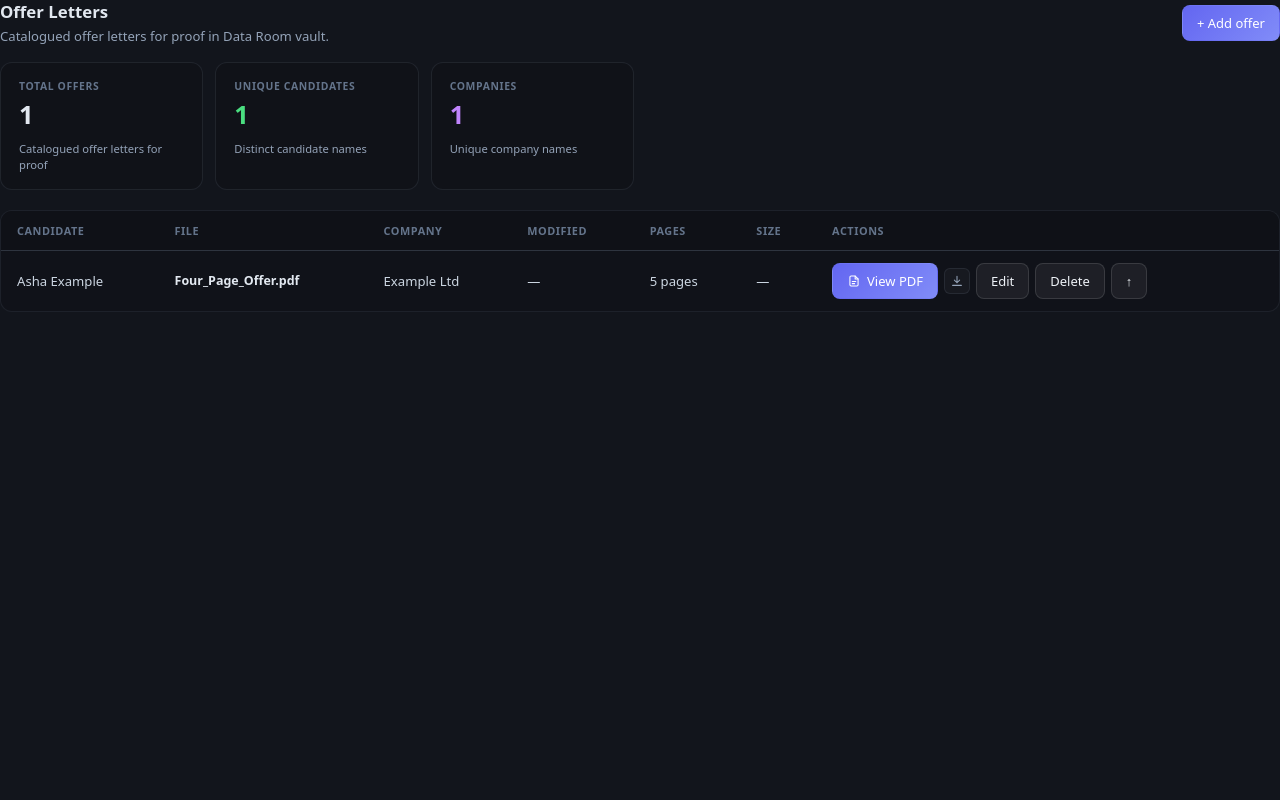
it: the page count › warns when it can show fewer pages than the stored file holds
Click the button with aria-label "View PDF for Asha Example" at x=885, y=280, box [832, 262, 938, 298]
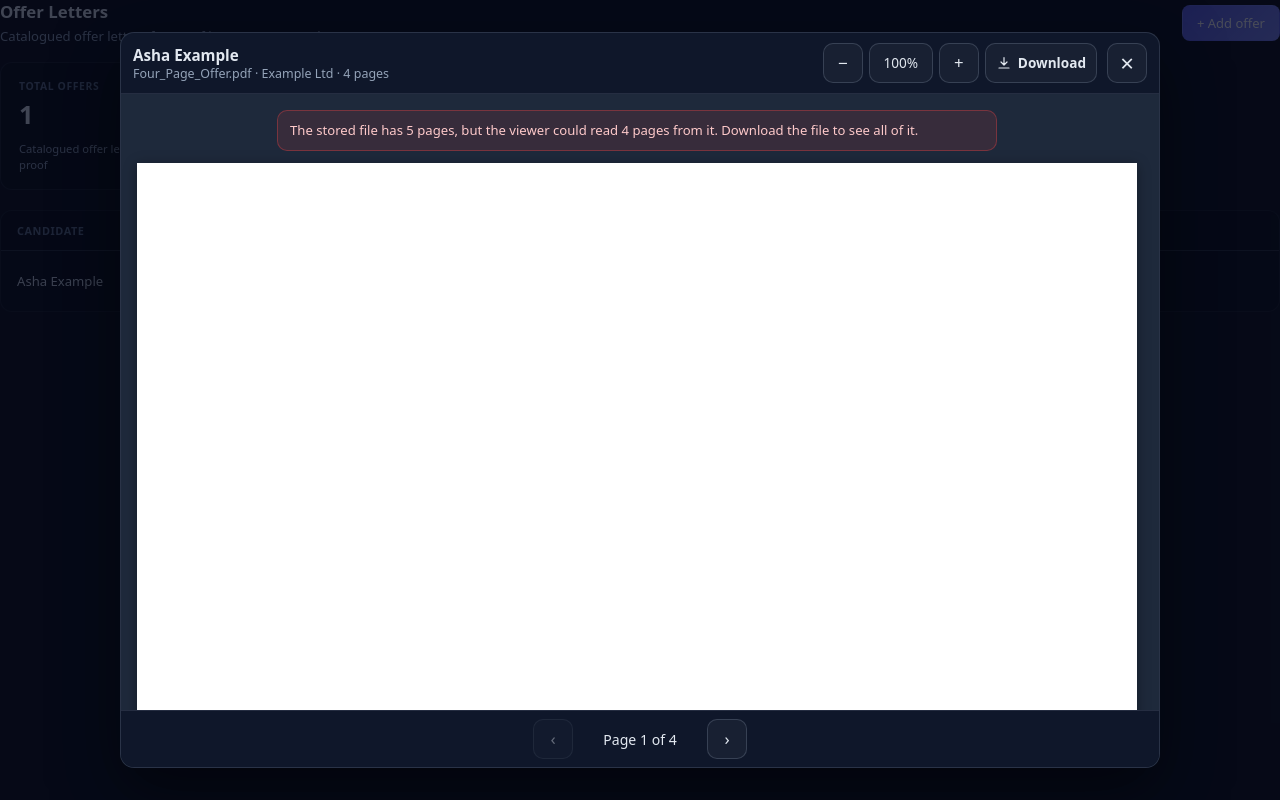
Expected: the message shows "The stored file has 5 pages, but the viewer could read 4 pages from it. Download the file to see all of it.", [290, 121, 918, 139]
Expected: the text with class "offer-preview__page-of" reads "Page 1 of 4", [603, 730, 677, 748]
